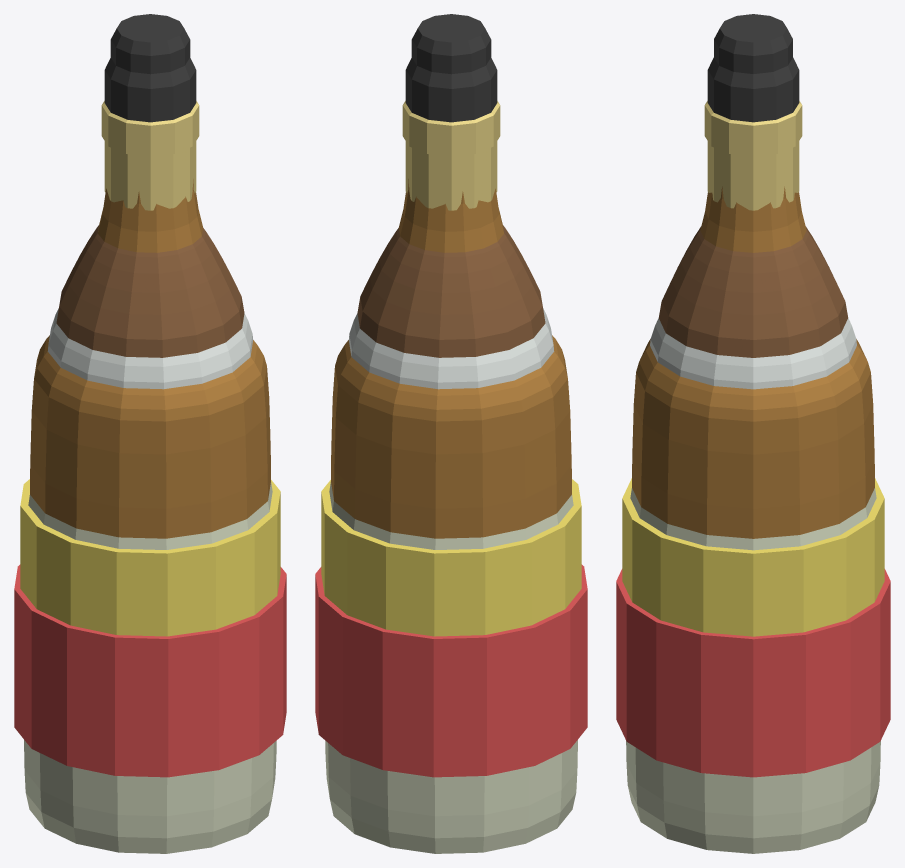
File: botellas.glb
3 views of the same model, side by side, from view 1: azimuth 30°, elevation 25°; view 2: azimuth 150°, elevation 25°; view 3: azimuth 270°, elevation 25° (orthographic).
Parts seen in each view (by area): view 1: Botella_mezcal, Botella_whisky, Botella_caguama, Botella_ron, Botella_tequila; view 2: Botella_mezcal, Botella_whisky, Botella_caguama, Botella_ron, Botella_tequila; view 3: Botella_mezcal, Botella_whisky, Botella_caguama, Botella_ron, Botella_tequila.
Part boxes in pixels (bbox=[...]): Botella_mezcal: bbox=[14, 482, 286, 853]; Botella_whisky: bbox=[30, 141, 270, 538]; Botella_caguama: bbox=[20, 101, 280, 636]; Botella_ron: bbox=[56, 14, 244, 357]; Botella_tequila: bbox=[47, 57, 253, 389]; Botella_mezcal: bbox=[315, 482, 587, 853]; Botella_whisky: bbox=[331, 141, 571, 538]; Botella_caguama: bbox=[321, 101, 581, 636]; Botella_ron: bbox=[357, 14, 545, 357]; Botella_tequila: bbox=[348, 57, 554, 389]; Botella_mezcal: bbox=[616, 488, 890, 853]; Botella_whisky: bbox=[632, 141, 874, 538]; Botella_caguama: bbox=[622, 101, 884, 636]; Botella_ron: bbox=[658, 14, 848, 357]; Botella_tequila: bbox=[650, 57, 856, 389].
Size of the model in its own units: 0.09 by 0.28 by 0.09.
